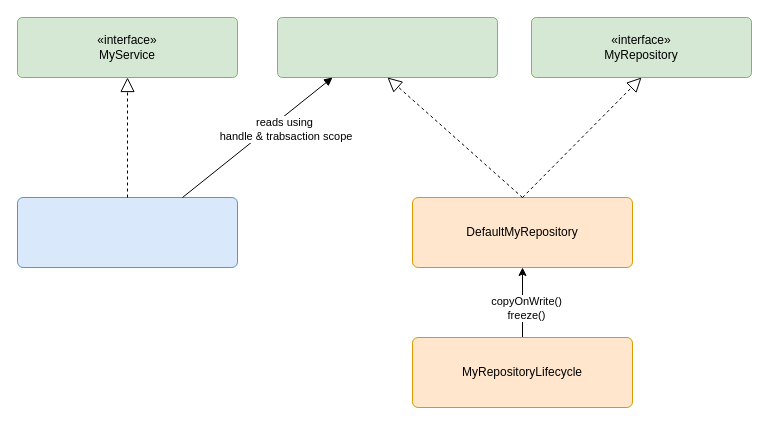
Some shapes in this 769 by 425 pixel diagram are drawn without their labels. The shapes that lost their labels are listed below. From the top down, each one's box as (x1, y1, x2, y2) in pixels, then its label:
(276, 16, 498, 78): «interface» MyRepositorySnapshot
(16, 196, 238, 268): DefaultMyService
